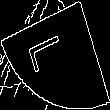L_E: (32, 31, 78, 79)
